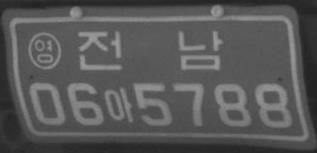0: (27, 80, 67, 126)
5: (135, 81, 172, 127)
6: (67, 81, 105, 126)
7: (172, 81, 207, 126)
8: (213, 81, 254, 127), (255, 81, 293, 130)
아: (105, 86, 134, 123)
영: (27, 31, 62, 70)
전남_D: (77, 29, 224, 72)
